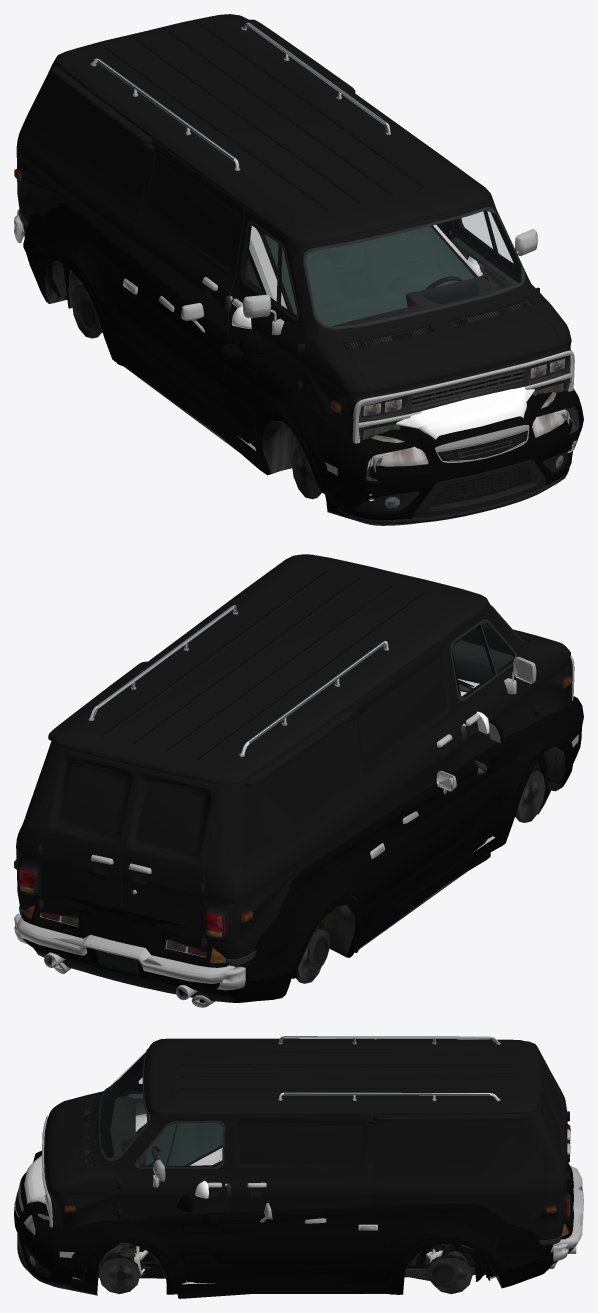
Rendered from cars.glb.
3 views of the same model, one above another, from view 1: azimuth 30°, elevation 25°; view 2: azimuth 150°, elevation 25°; view 3: azimuth 270°, elevation 25° (orthographic). The views are drawn at different scales.
Parts seen in each view (by area): view 1: Body_Body_0, Body_Body_0-far, body_body_0, Body_body_0, Bumper_rear_UCB_BOTTOM_0, headlights_GLASS_0, headlights_GLASS_0-far, body_body_0-far, hood_MODERNHATCH_body_0, Interior_Material #31_0, body_plastic_0, Body_body_0-far (+15 smaller); view 2: Body_Body_0, Body_Body_0-far, Body_body_0, body_body_0, body_body_0-far, Grill_UCB_BOTTOM_0, Bumper_rear_UCB_BOTTOM_0, Body_body_0-far, Grill_UCB_BOTTOM_0-far, Interior_Material #31_0, bottom_bottom_0-far, bottom_bottom_0 (+4 smaller); view 3: Body_Body_0, Body_Body_0-far, body_body_0, Body_body_0, body_body_0-far, Bumper_rear_UCB_BOTTOM_0, Body_body_0-far, headlights_GLASS_0, Grill_UCB_BOTTOM_0, headlights_GLASS_0-far, Interior_Material #31_0, bottom_bottom_0 (+9 smaller).
Part boxes in pixels (x1,y1,x2,y2): Body_Body_0: (16,14,571,440); Body_Body_0-far: (16,20,571,436); body_body_0: (23,202,572,520); Body_body_0: (23,225,583,501); Bumper_rear_UCB_BOTTOM_0: (14,22,574,443); headlights_GLASS_0: (246,226,537,429); headlights_GLASS_0-far: (246,227,536,428); body_body_0-far: (23,206,572,518); hood_MODERNHATCH_body_0: (231,224,534,439); Interior_Material #31_0: (242,210,521,326); body_plastic_0: (338,392,569,524); Body_body_0-far: (49,242,581,501); Body_Body_0: (16,554,572,966); Body_Body_0-far: (16,557,572,967); Body_body_0: (21,696,583,995); body_body_0: (34,711,573,1002); body_body_0-far: (238,711,573,1002); Grill_UCB_BOTTOM_0: (17,738,578,1000); Bumper_rear_UCB_BOTTOM_0: (14,605,574,990); Body_body_0-far: (22,699,581,991); Grill_UCB_BOTTOM_0-far: (45,734,578,998); Interior_Material #31_0: (452,623,514,698); bottom_bottom_0-far: (297,771,553,982); bottom_bottom_0: (193,768,561,997); Body_Body_0: (44,1038,569,1245); Body_Body_0-far: (44,1046,567,1246); body_body_0: (14,1172,551,1294); Body_body_0: (31,1150,573,1279); body_body_0-far: (17,1173,551,1294); Bumper_rear_UCB_BOTTOM_0: (42,1036,570,1267); Body_body_0-far: (33,1163,573,1277); headlights_GLASS_0: (145,1123,222,1165); Grill_UCB_BOTTOM_0: (36,1166,583,1287); headlights_GLASS_0-far: (146,1123,222,1165); Interior_Material #31_0: (100,1066,222,1167); bottom_bottom_0: (98,1243,472,1294).
Bounding box in the file's own units: 2.22 × 1.87 × 4.96.
Materials: 36 (24 with a texture image).
